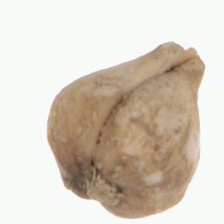L1: (63, 162, 124, 205), (159, 39, 207, 81)
L2: (47, 41, 206, 220)
